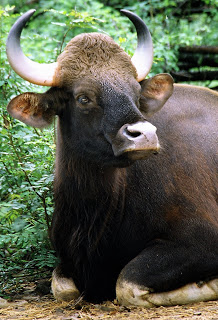bison: (7, 8, 218, 304)
